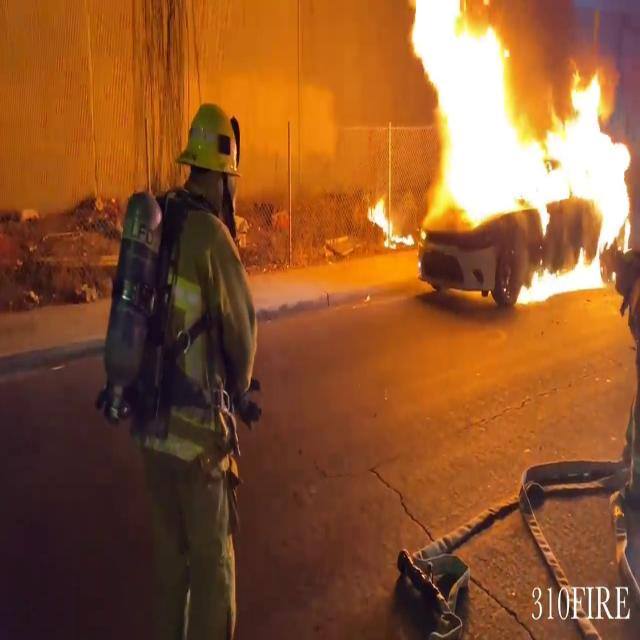Fire: (396, 1, 640, 299), (366, 190, 402, 251)
